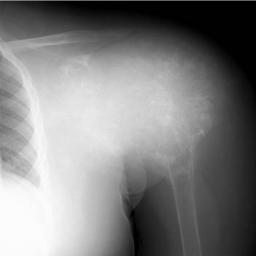cancer: (89, 40, 212, 162)
